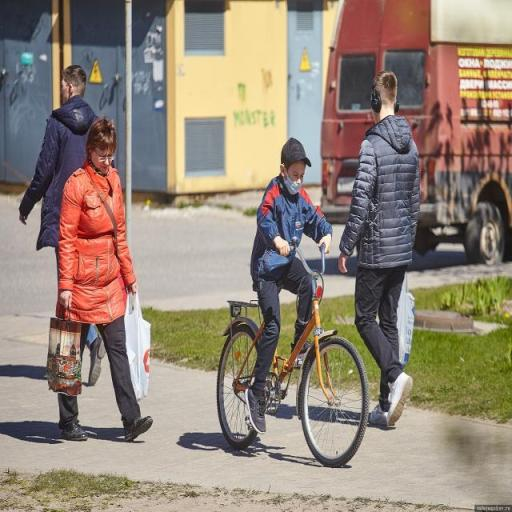person: (52, 116, 155, 448), (22, 59, 107, 389), (340, 71, 417, 432), (249, 136, 334, 439)
